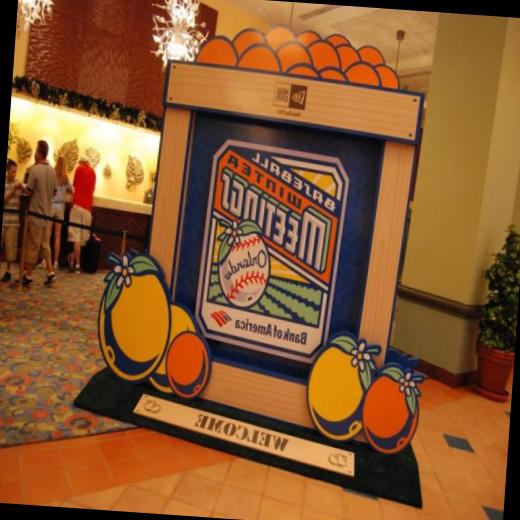Grape: (90, 260, 172, 378), (302, 336, 368, 438), (360, 365, 424, 457), (162, 324, 215, 396), (146, 304, 194, 382)
